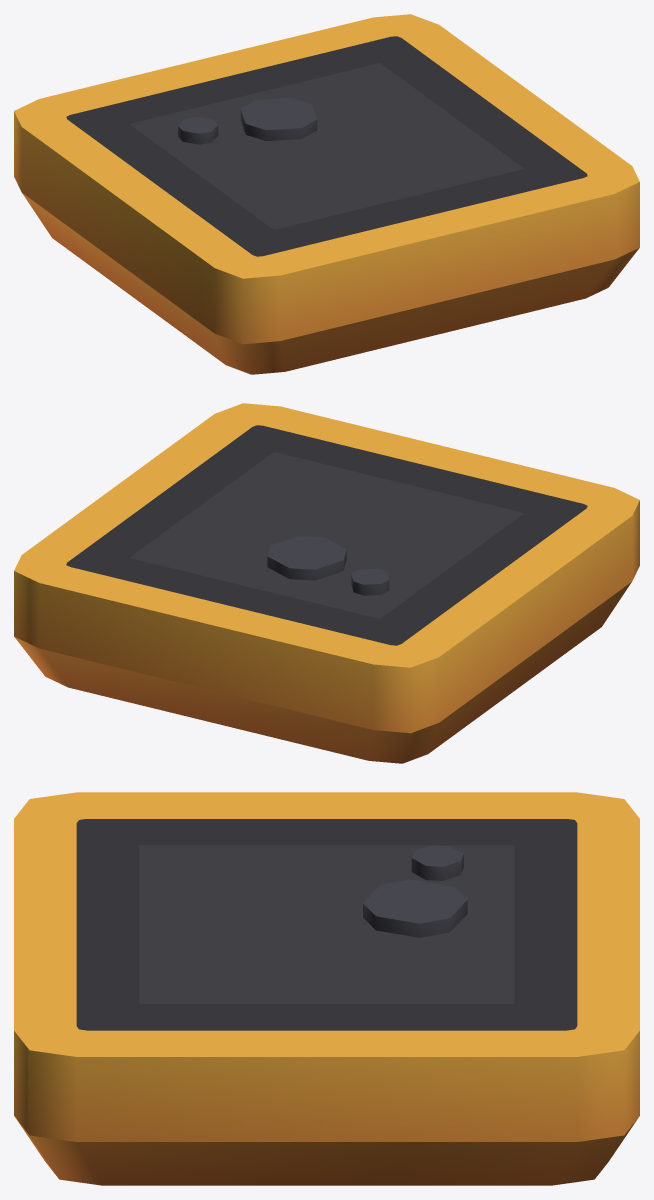
Rendered from Platform.fbx.
3 renders of one model, top to bottom at view 1: azimuth 30°, elevation 25°; view 2: azimuth 150°, elevation 25°; view 3: azimuth 270°, elevation 25°, orthographic. The views are drawn at different scales.
Visible parts, largest first — view 1: platform; view 2: platform; view 3: platform.
Boxes of the visible parts, x1,y1,x2,y2 form: platform: (14,14,639,374); platform: (14,403,639,763); platform: (14,792,639,1185).
Bounding box in the file's own units: 200 × 55 × 200.
